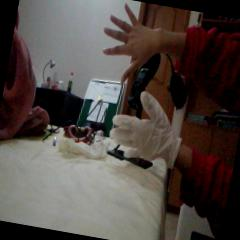gloved: (107, 85, 190, 171)
not-gloved: (95, 0, 178, 90)
